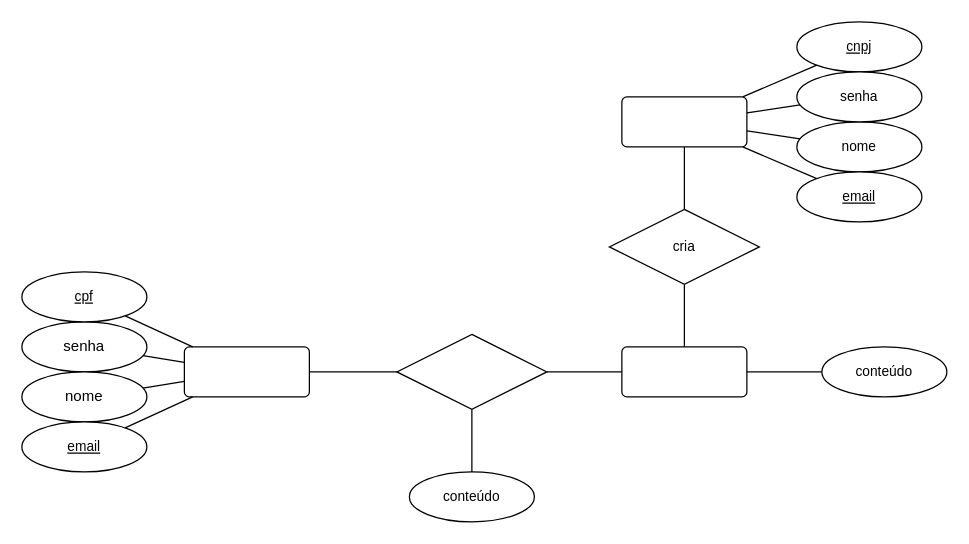
The diagram is 969 pixels wide and 544 high, and some of its shapes have lost their labels. The centre of each missing label's shape, as x and y in pixels:
"comenta" goes at point 471,371.
"Empresa" goes at point 684,121.
"Estudante" goes at point 246,371.
"Postagem" goes at point 684,371.
